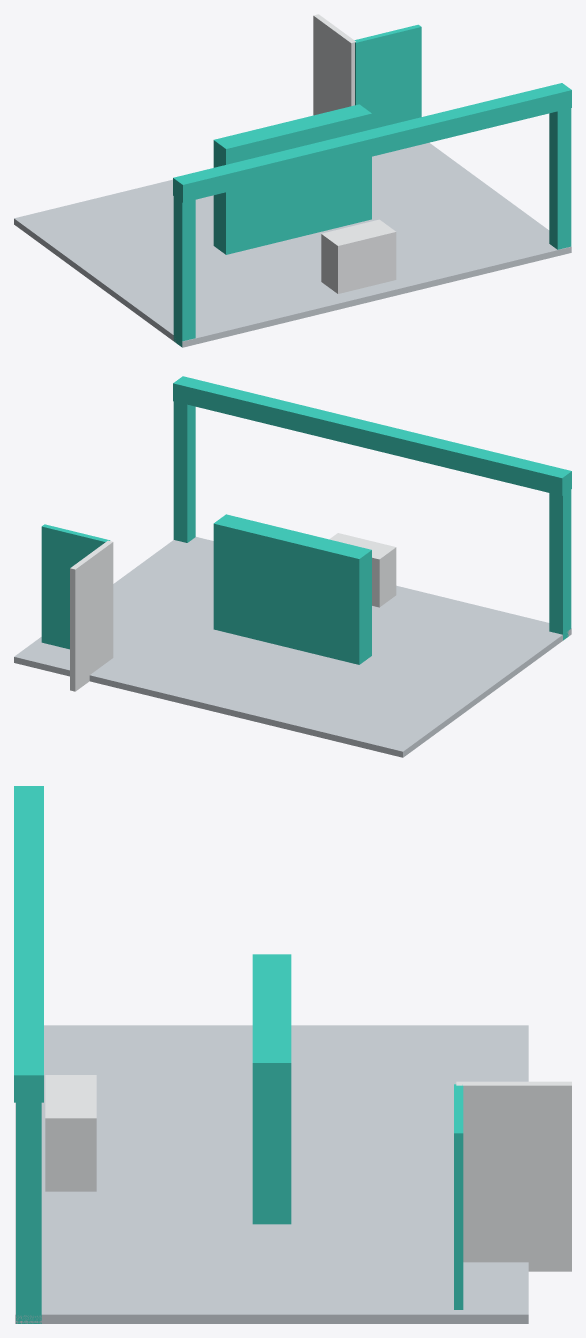
3 renders of one model, top to bottom at view 1: azimuth 30°, elevation 25°; view 2: azimuth 150°, elevation 25°; view 3: azimuth 270°, elevation 25°, orthographic. The views are drawn at different scales.
Visible parts, largest first — view 1: Exhibition Booth Concept; view 2: Exhibition Booth Concept; view 3: Exhibition Booth Concept.
Part boxes in pixels (box(x1,y1,x2,y2)): Exhibition Booth Concept: box(14, 14, 571, 347); Exhibition Booth Concept: box(14, 376, 571, 757); Exhibition Booth Concept: box(14, 786, 571, 1323).
Size of the model in its own units: 8 by 3.2 by 6.52.
